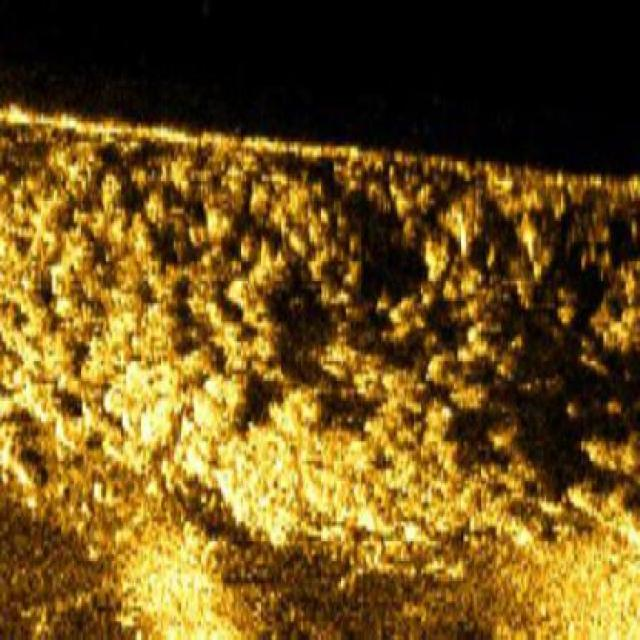bedrock group: (0, 136, 638, 549)
